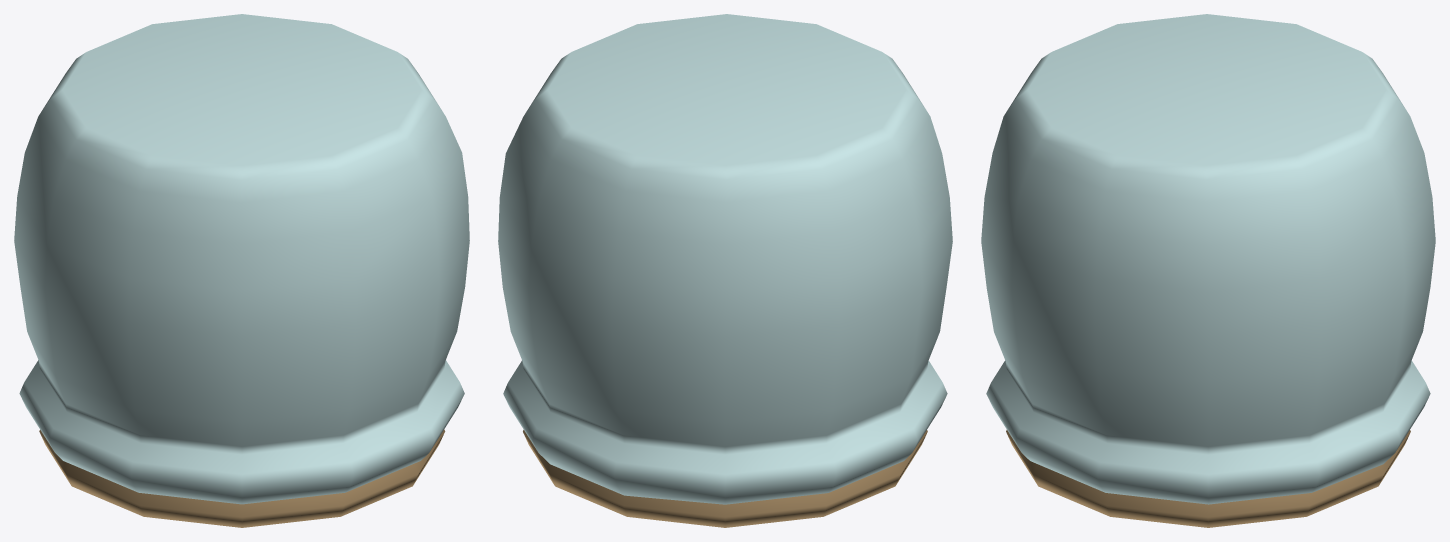
The model's file is Atoll_JarContainer2v2.fbx.
3 renders of one model, left to right at view 1: azimuth 30°, elevation 25°; view 2: azimuth 150°, elevation 25°; view 3: azimuth 270°, elevation 25°, orthographic.
Parts seen in each view (by area): view 1: Bottle, Cork; view 2: Bottle, Cork; view 3: Bottle, Cork.
Boxes of the visible parts, x1,y1,x2,y2 form: Bottle: (14,14,469,504); Cork: (39,429,445,527); Bottle: (498,14,952,504); Cork: (523,430,927,527); Bottle: (981,14,1435,504); Cork: (1006,430,1410,527).
Bounding box in the file's own units: 1.32 × 1.14 × 1.32.
2 materials, 2 textured.
